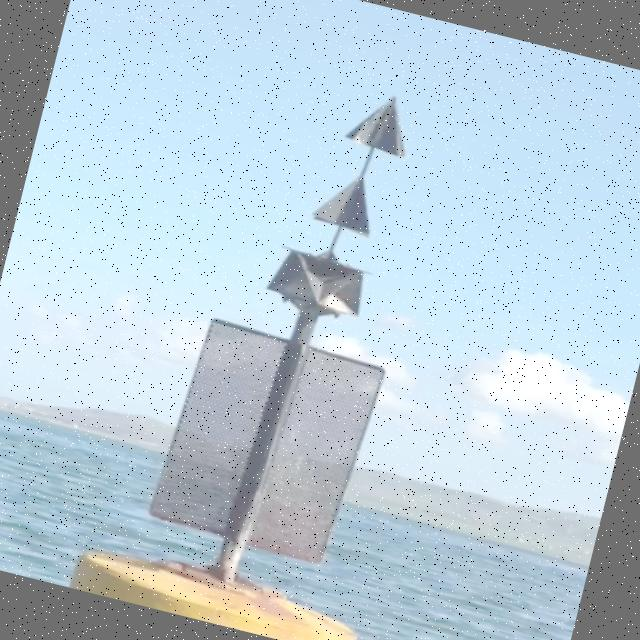marque: (78, 47, 491, 640)
